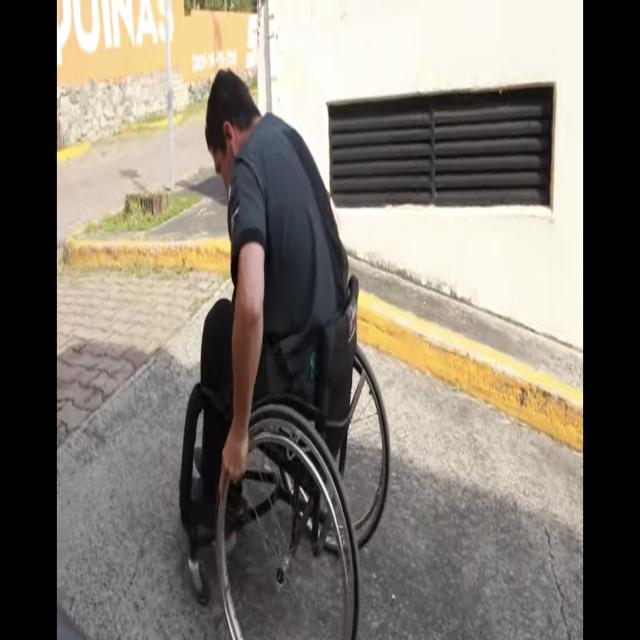wheelchairs: (175, 272, 391, 640)
